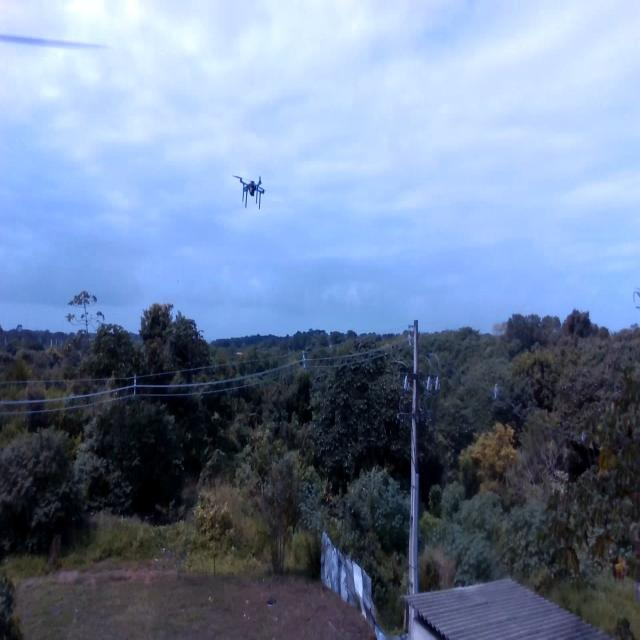-uav-: (234, 159, 268, 222)
